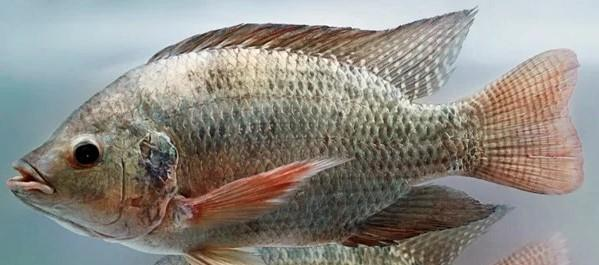Tilapia: (8, 2, 594, 265)
